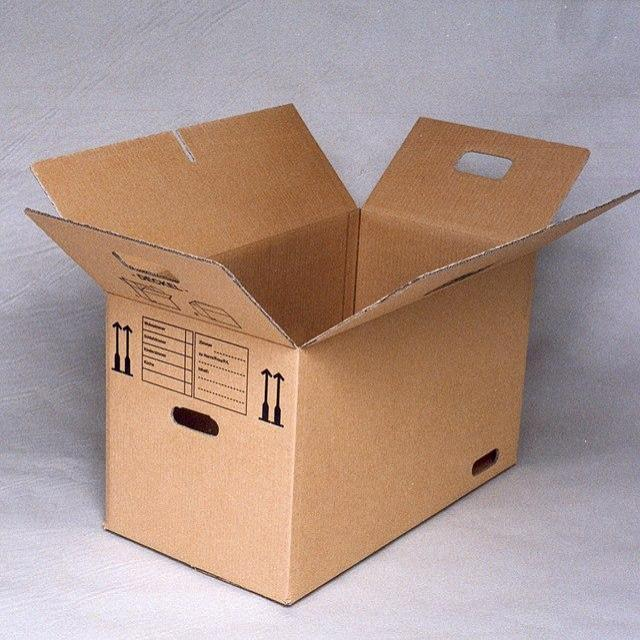cardboard: (31, 105, 589, 611)
